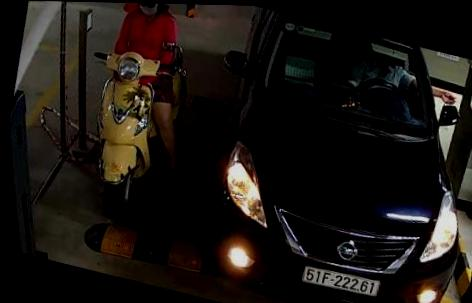License_Plate: (298, 255, 388, 303)
